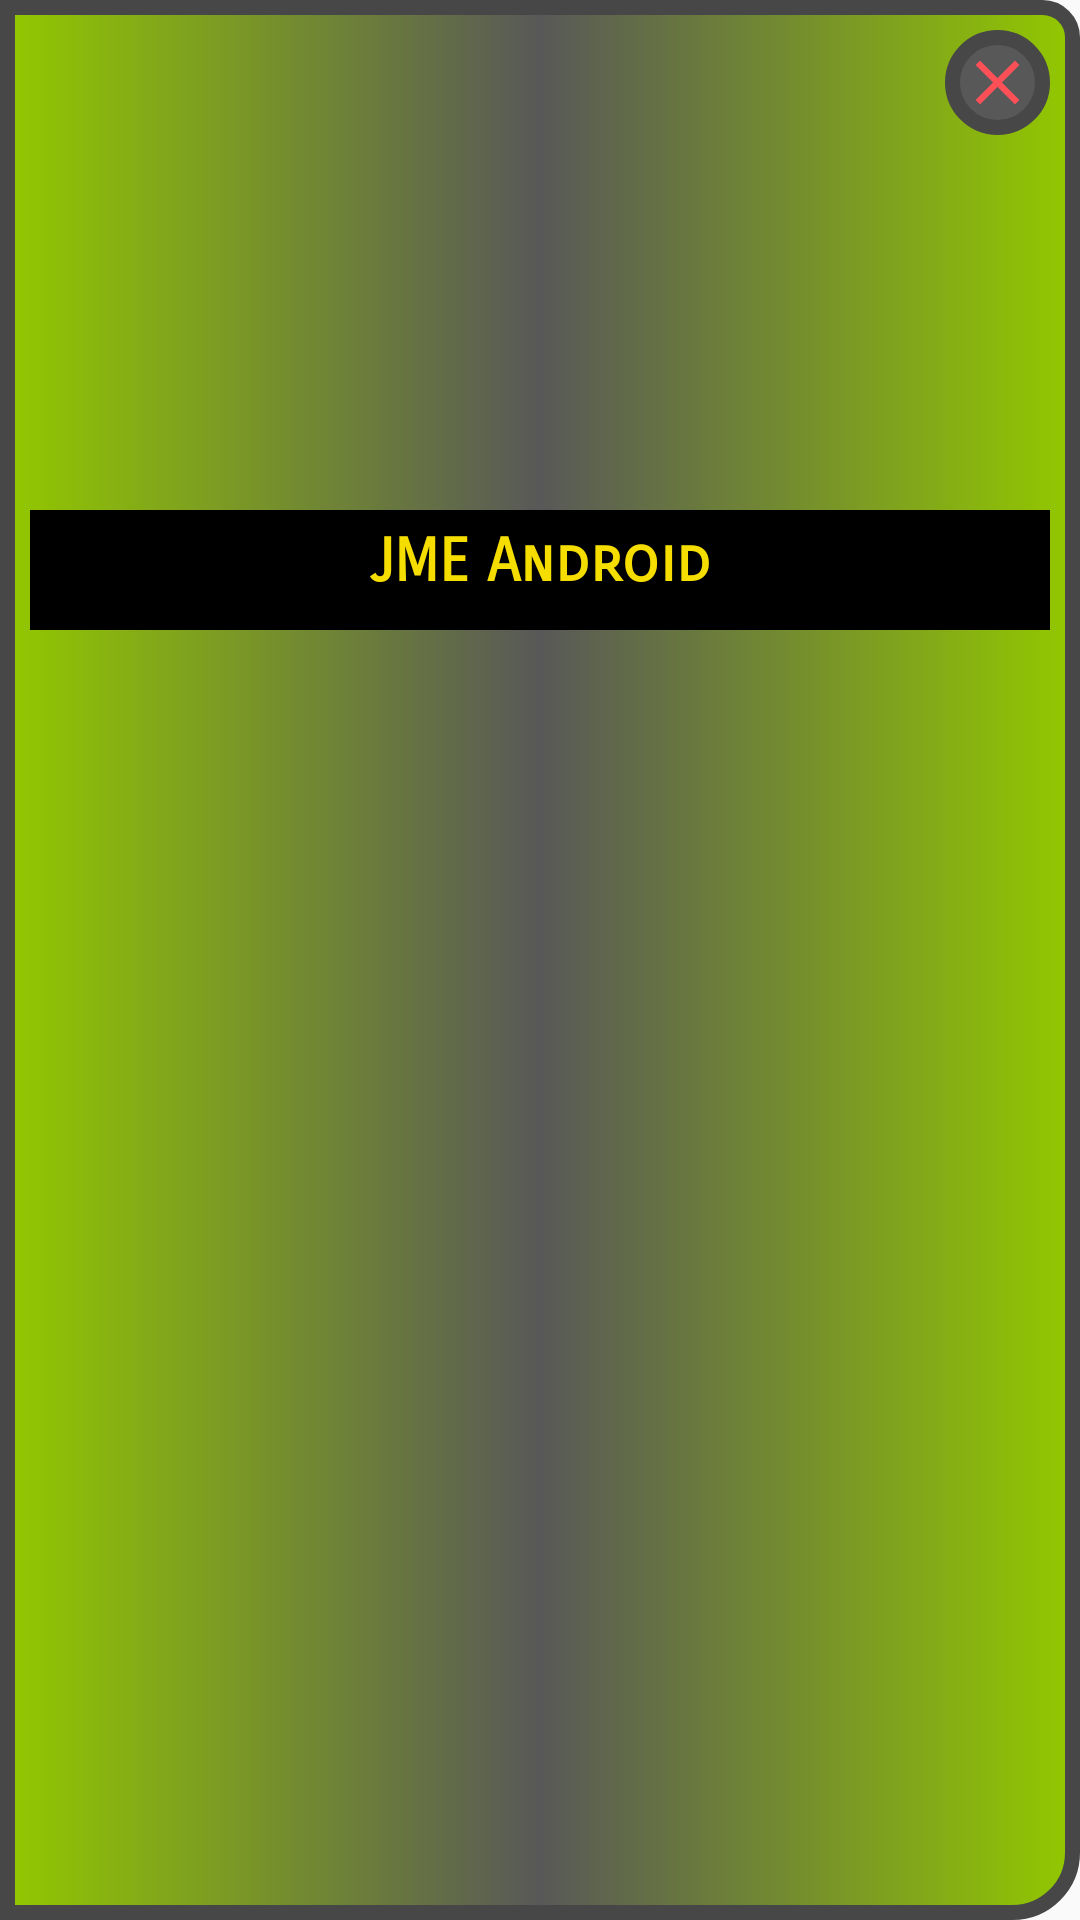

Icon click points for this 1080px x 1920px phone screenshot, format (x=x, y=y):
close: (x=997, y=82)
